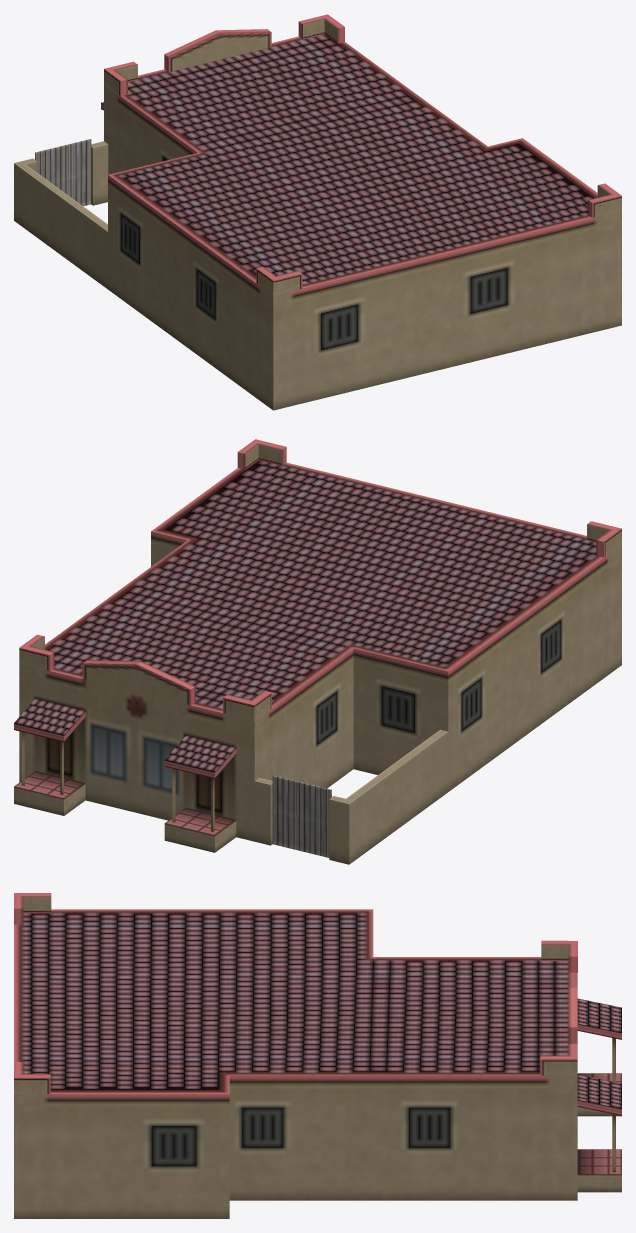
Rendered from GenericHouse01.fbx.
3 renders of one model, top to bottom at view 1: azimuth 30°, elevation 25°; view 2: azimuth 150°, elevation 25°; view 3: azimuth 270°, elevation 25°, orthographic. The views are drawn at different scales.
Parts seen in each view (by area): view 1: GenericHouse01a2; view 2: GenericHouse01a2; view 3: GenericHouse01a2.
Boxes of the visible parts, x1,y1,x2,y2 form: GenericHouse01a2: (14, 14, 621, 410); GenericHouse01a2: (14, 439, 621, 864); GenericHouse01a2: (14, 893, 621, 1218).
Bounding box in the file's own units: 5.95 × 2.3 × 8.27.
